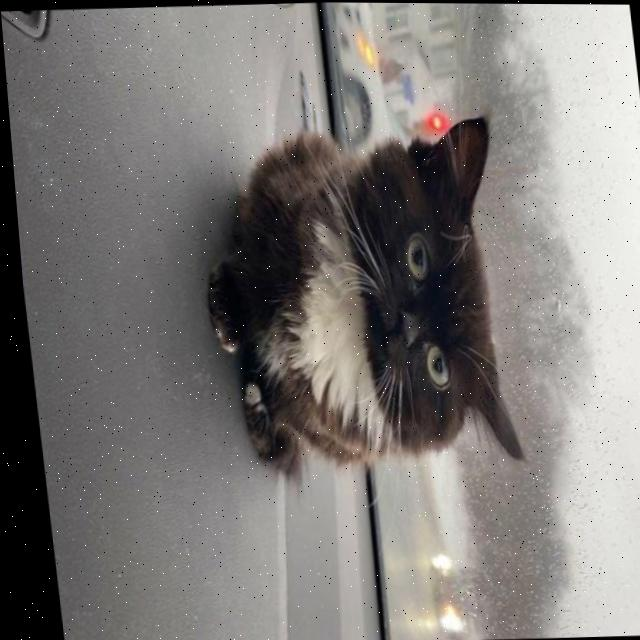Cats: (173, 78, 541, 527)
